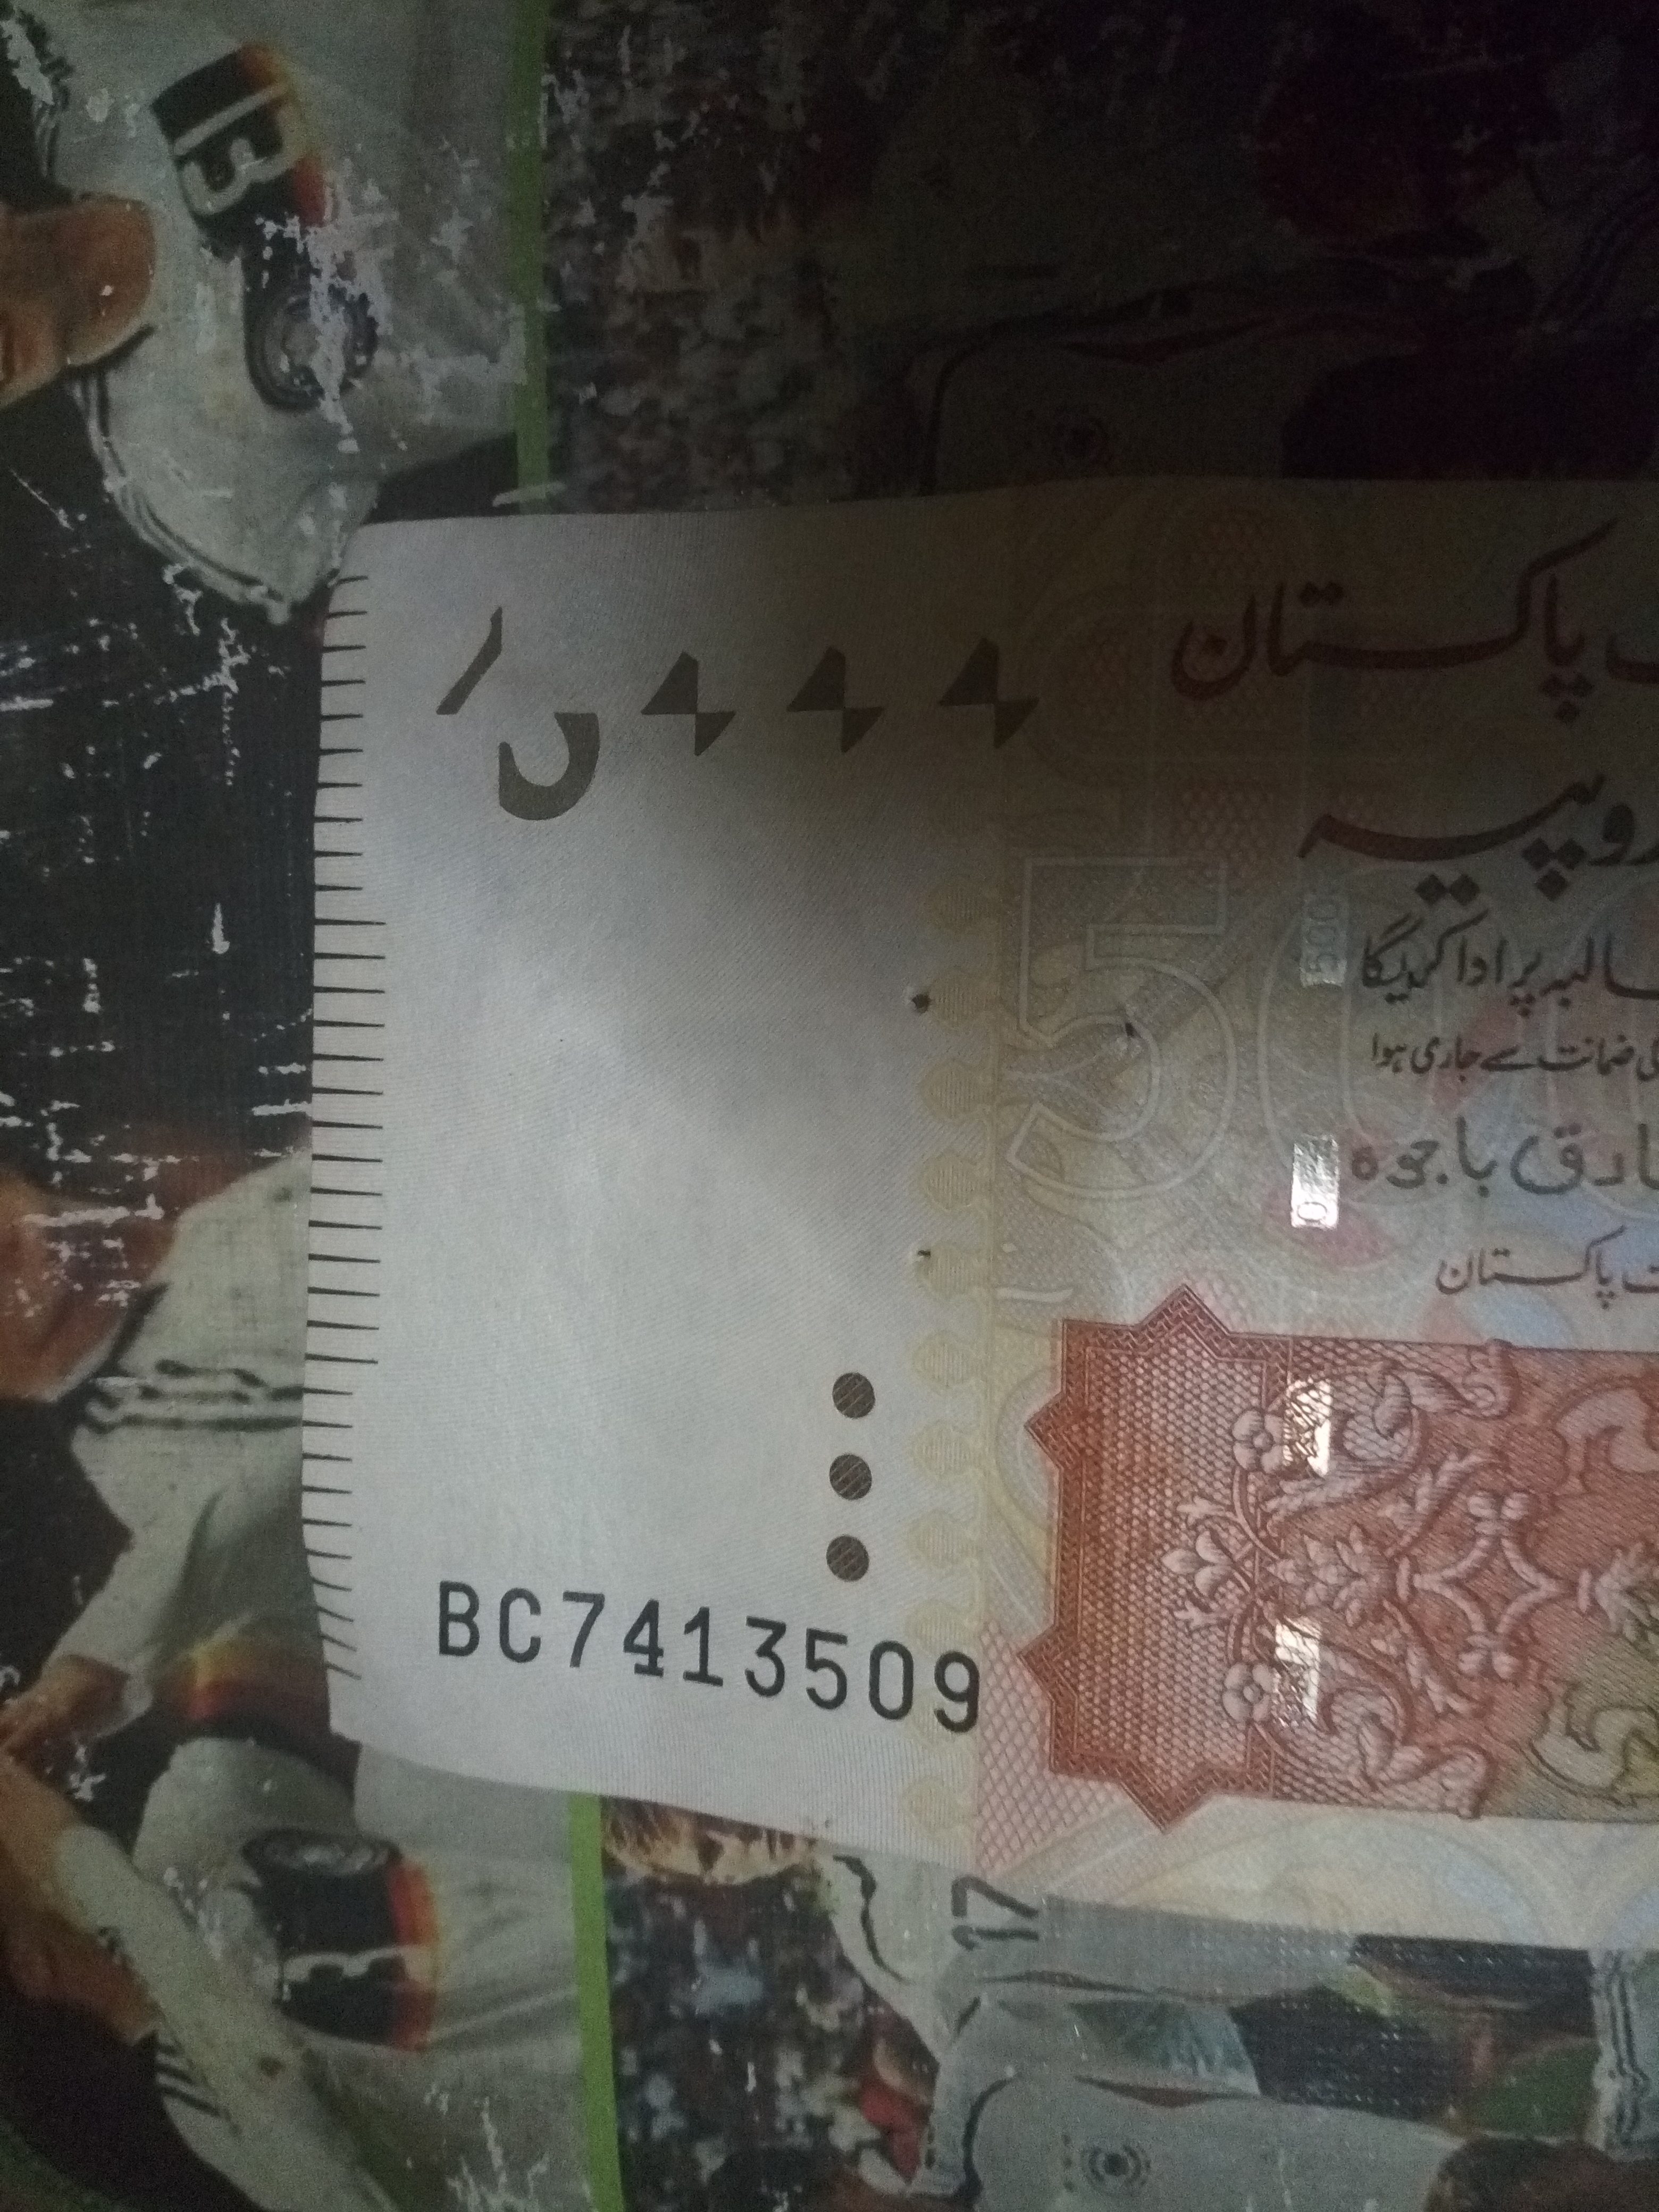5000 rupee: (242, 475, 1649, 1944), (660, 1305, 1093, 1684)
